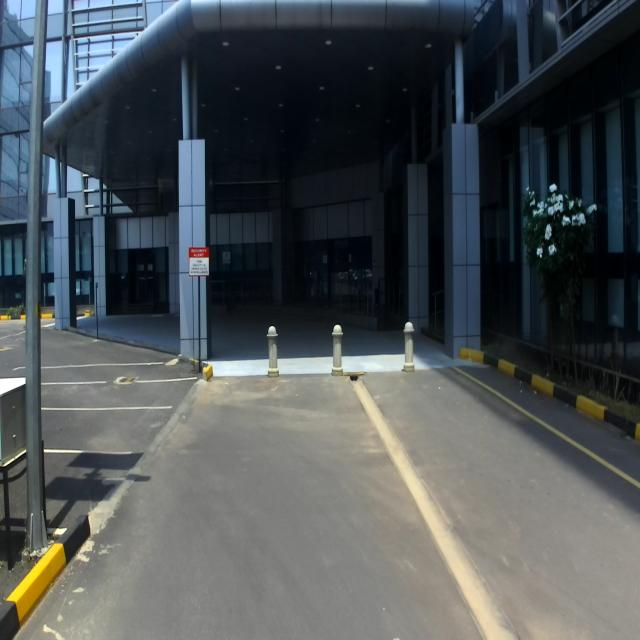barrier ahead at: (260, 317, 286, 386), (329, 318, 348, 372), (401, 317, 416, 369)
electric pole ahead at: (21, 0, 62, 555)
